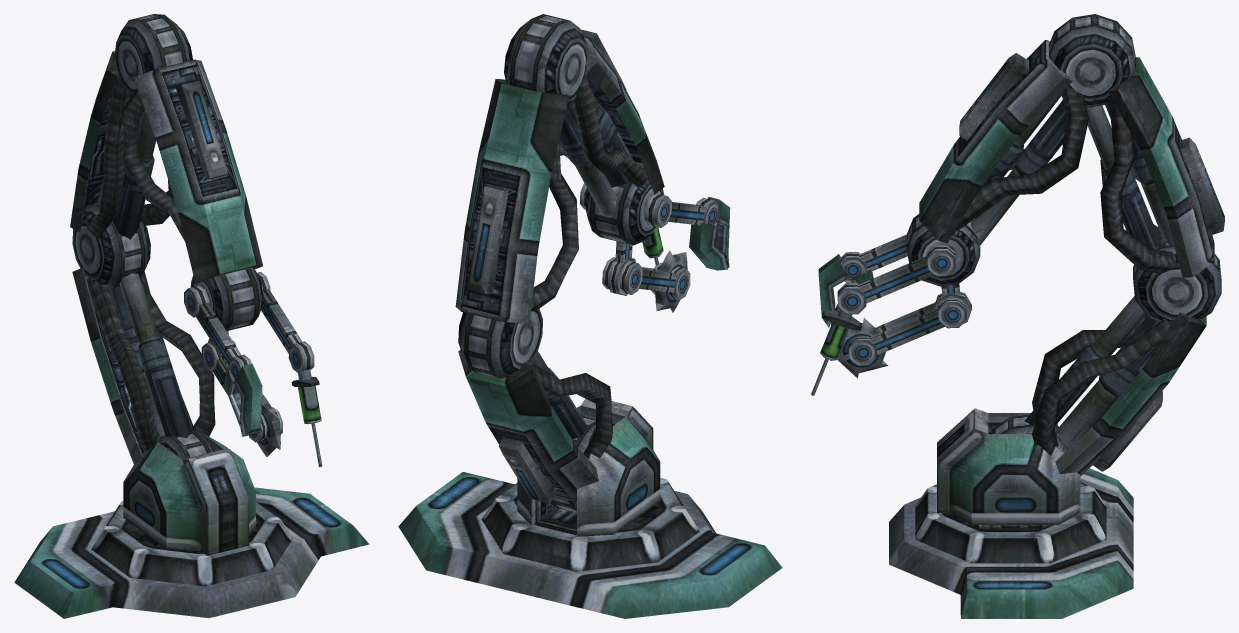
The model's file is castanardissectionarm.fbx.
3 renders of one model, left to right at view 1: azimuth 30°, elevation 25°; view 2: azimuth 150°, elevation 25°; view 3: azimuth 270°, elevation 25°, orthographic. The views are drawn at different scales.
Parts seen in each view (by area): view 1: Geoset_0; view 2: Geoset_0; view 3: Geoset_0.
Boxes of the visible parts, x1=… form: Geoset_0: x1=14, y1=14, x2=369, y2=618; Geoset_0: x1=398, y1=14, x2=782, y2=618; Geoset_0: x1=811, y1=14, x2=1224, y2=618.
Bounding box in the file's own units: 1.48 × 2.39 × 1.71.
1 material, 1 textured.
